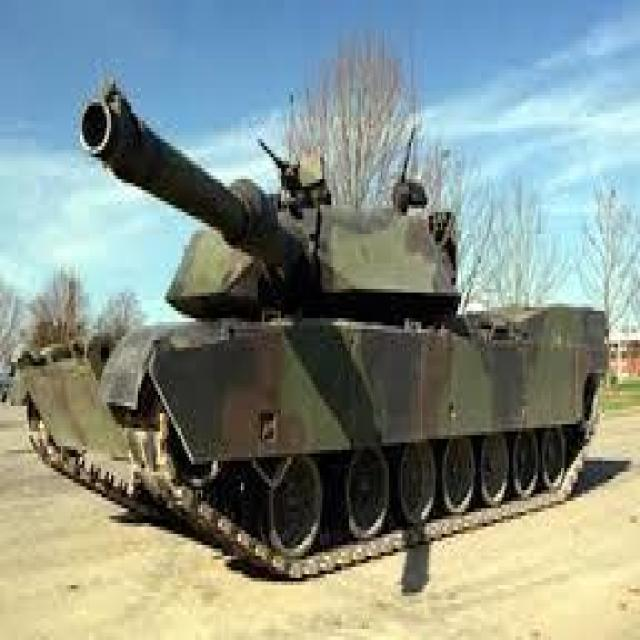Tanks: (36, 16, 571, 620)
